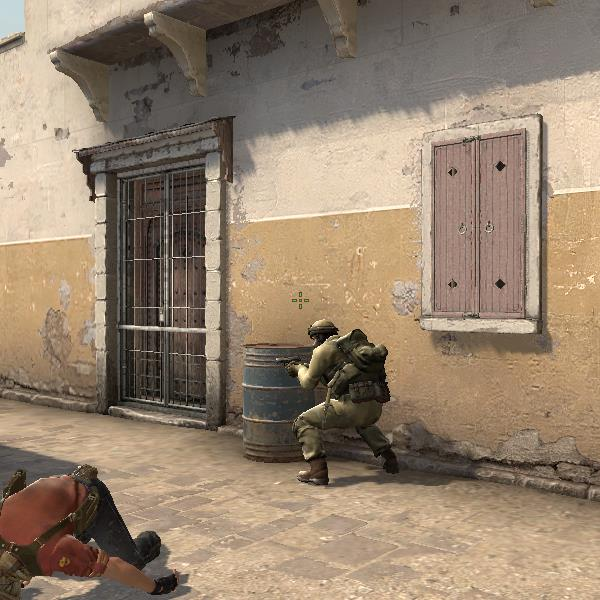ct_body: (280, 315, 415, 481)
ct_head: (308, 321, 342, 355)
